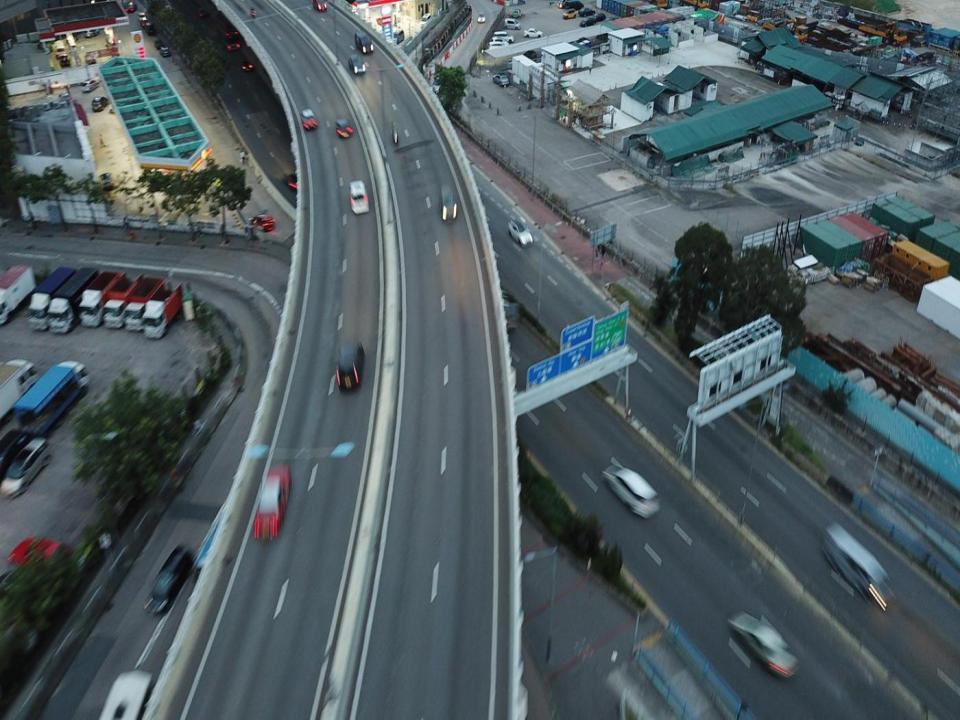car: (722, 610, 800, 679), (600, 458, 663, 519), (142, 543, 192, 616), (254, 460, 292, 539), (0, 438, 52, 488), (331, 342, 370, 395), (505, 216, 535, 248), (435, 184, 459, 223), (348, 178, 371, 215), (249, 210, 276, 234), (298, 106, 320, 131), (353, 29, 375, 54), (333, 114, 352, 139), (347, 54, 366, 75), (556, 0, 582, 12), (489, 38, 511, 52), (80, 75, 98, 92), (223, 26, 241, 42), (493, 28, 514, 41), (90, 95, 107, 111), (492, 71, 509, 87), (577, 14, 596, 28), (522, 26, 544, 38), (487, 44, 507, 56), (194, 6, 211, 20), (312, 0, 328, 14), (225, 38, 241, 52), (239, 59, 253, 74), (562, 9, 577, 22), (504, 18, 520, 30), (141, 20, 154, 33), (508, 8, 525, 17), (160, 46, 171, 59), (152, 36, 163, 48), (136, 11, 148, 22), (593, 10, 605, 21), (126, 1, 137, 12), (477, 12, 486, 25), (577, 8, 589, 16)
truck: (13, 358, 91, 432), (27, 262, 74, 336), (50, 263, 98, 331), (79, 267, 124, 329), (101, 267, 144, 326), (0, 360, 40, 422), (124, 271, 165, 331), (0, 260, 34, 327), (144, 284, 184, 337)
van: (418, 11, 433, 29), (391, 27, 404, 45)
